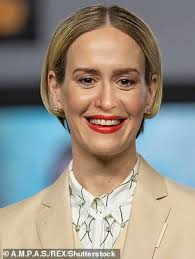n.blunt: (97, 76, 118, 113)
